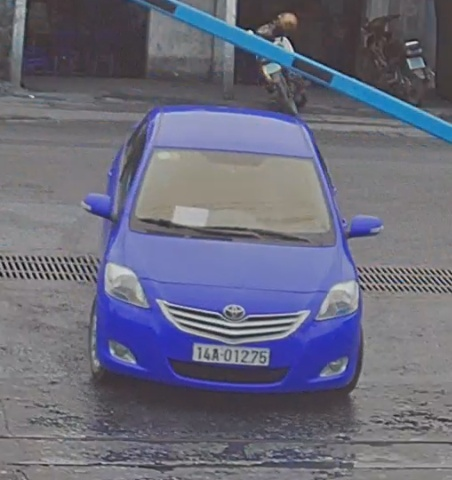vehicle plate: (184, 339, 273, 370)
